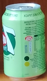sevenup: (2, 4, 47, 78)
